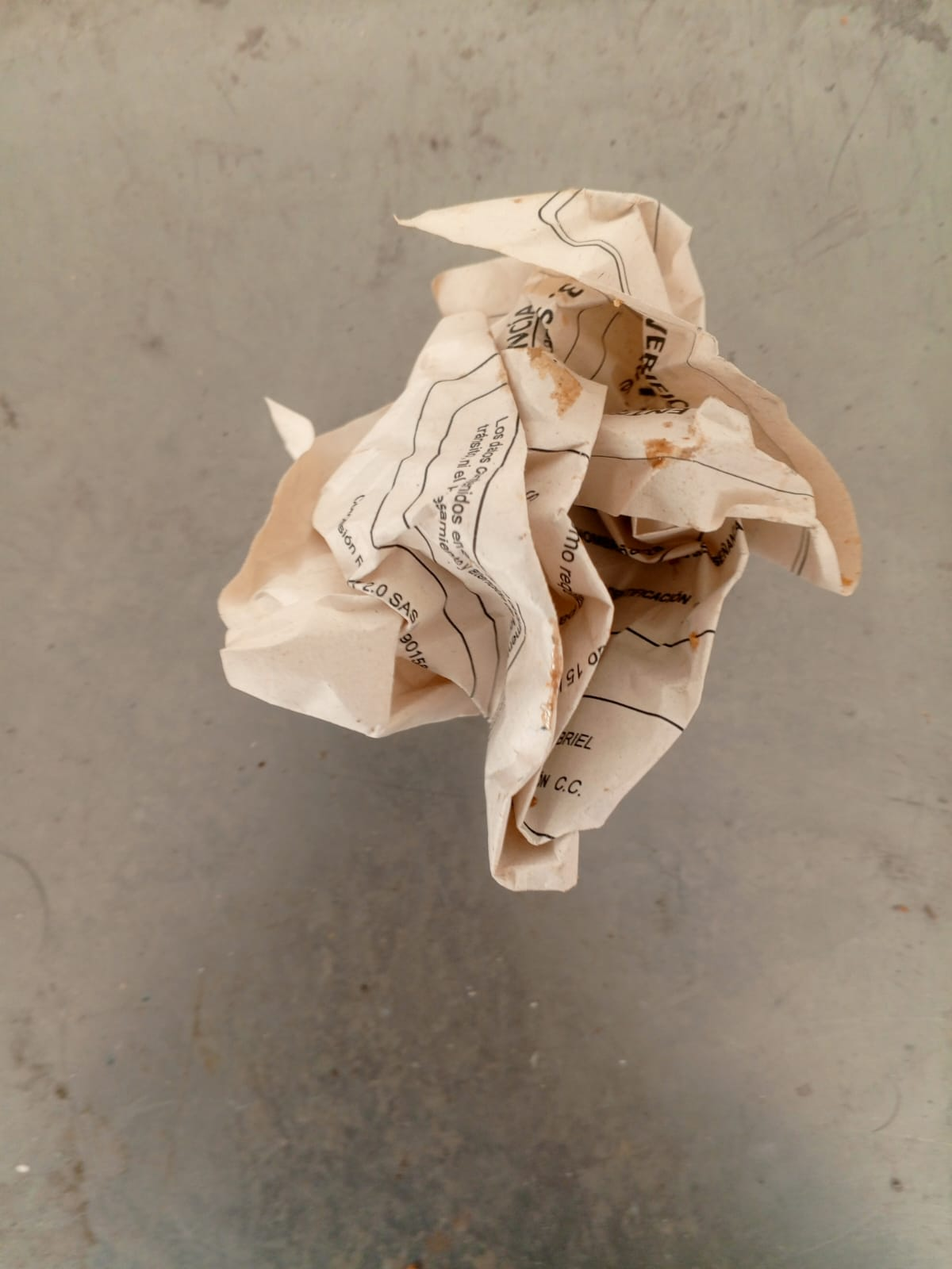Papel: (220, 191, 860, 901)
